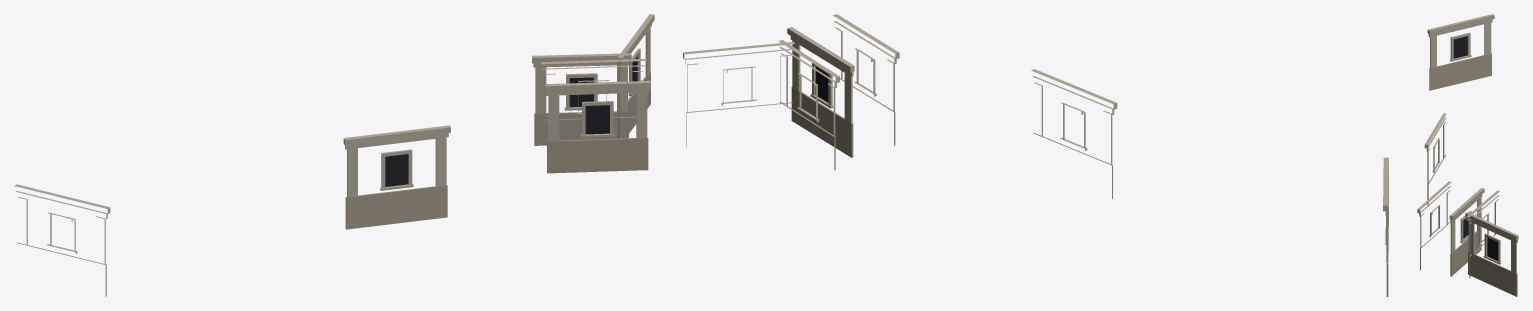
3 views of the same model, side by side, from view 1: azimuth 30°, elevation 25°; view 2: azimuth 150°, elevation 25°; view 3: azimuth 270°, elevation 25° (orthographic). The views are drawn at different scales.
Parts seen in each view (by area): view 1: detail; view 2: detail; view 3: detail.
Part boxes in pixels (<box>): detail: <box>14,14,654,296</box>; detail: <box>683,14,1388,296</box>; detail: <box>1417,14,1518,296</box>.
Bounding box in the file's own units: 38.75 × 5.19 × 7.51.
